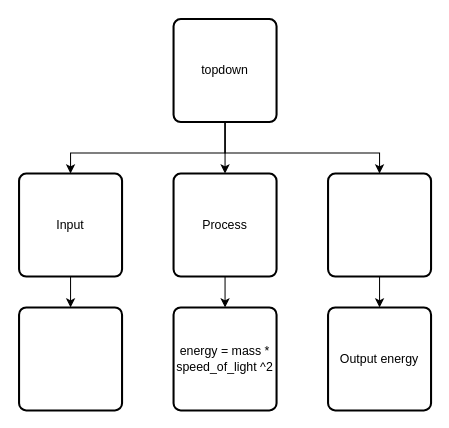
Some shapes in this 449 by 428 pixel diagram are drawn without their labels. The shapes that lost their labels are listed below. From the top down, each one's centre as x and y in pixels, then its label:
point 379,224: Output
point 70,358: Input mass
